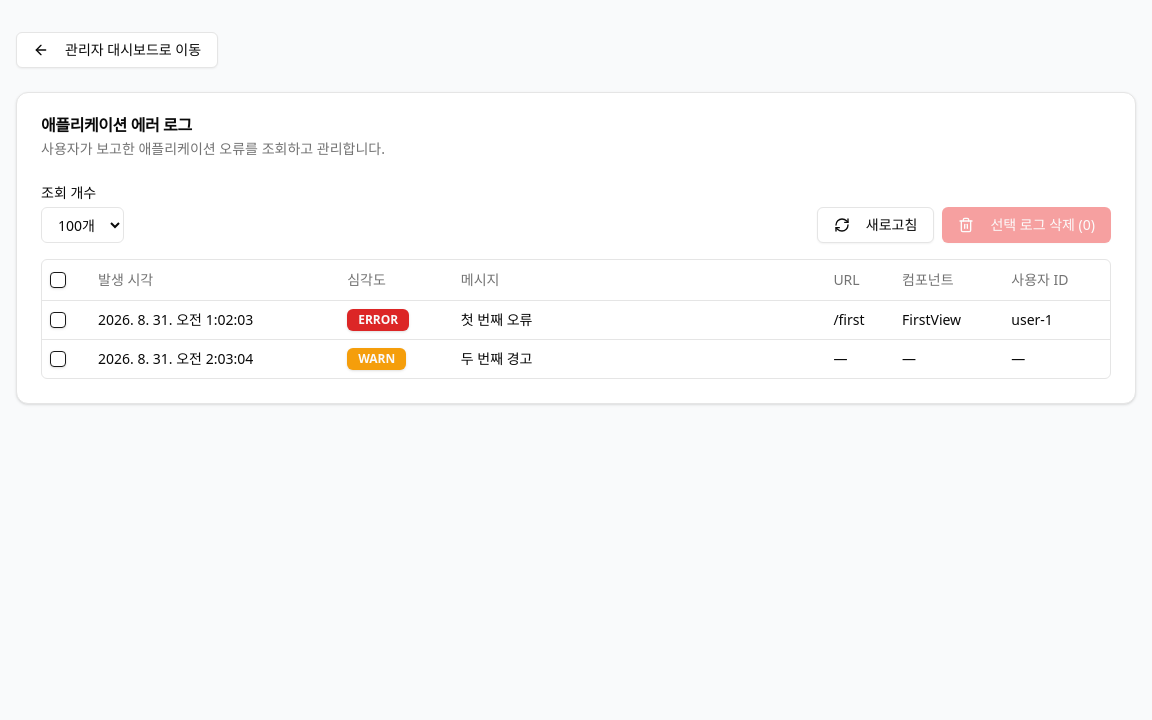
Test: AppLogsHome › prevents repeated confirmation while a deletion request is pending
Expected: the button "첫 번째 오류" is shown, [461,310,817,330]
Click the checkbox named "첫 번째 오류 (error-1) 선택" at {"x": 58, "y": 320}, box [50,312,66,328]
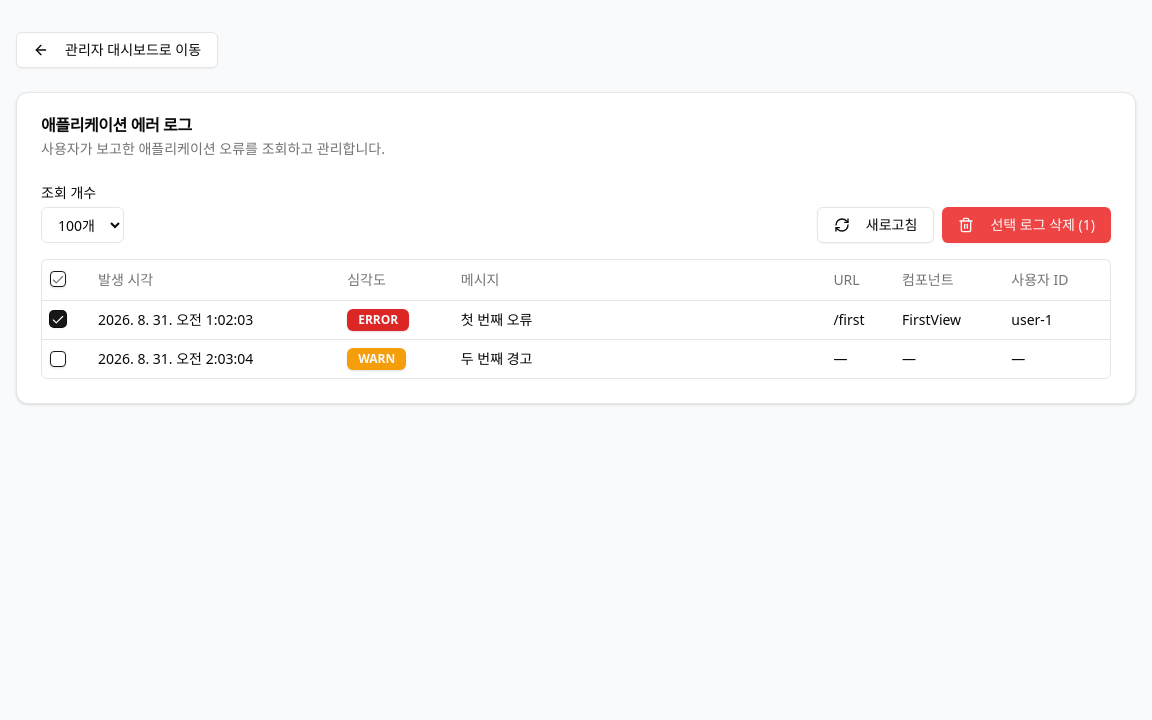
Click the button "선택 로그 삭제 (1)" at {"x": 1027, "y": 225}, box [942,207,1111,243]
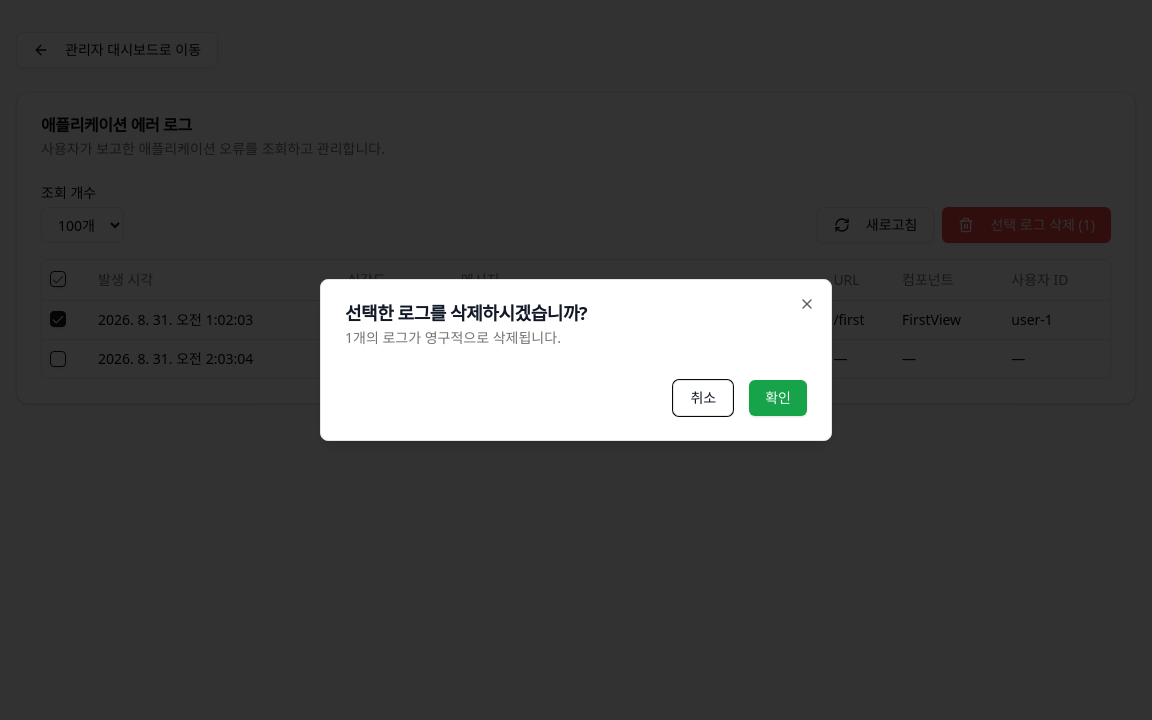
Click the button "확인" at {"x": 778, "y": 398}, box [749,380,807,416]
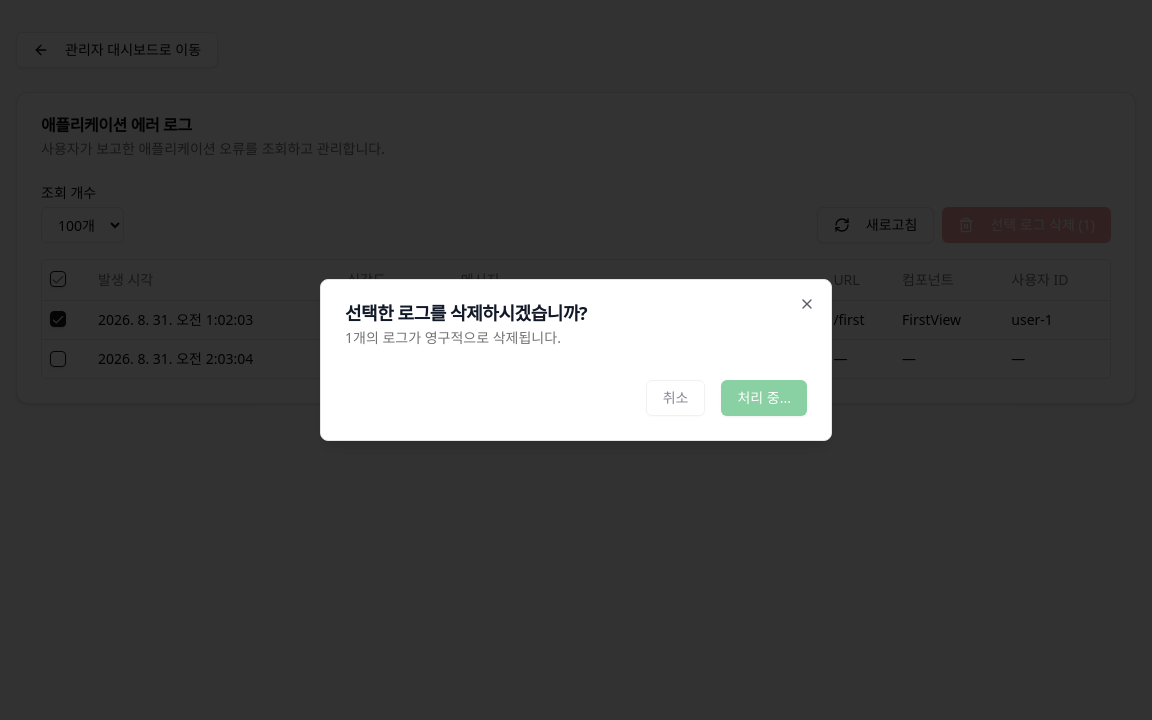
Now the button "처리 중..." is disabled
Click the button "처리 중..." at {"x": 764, "y": 398}, box [722,380,807,416]
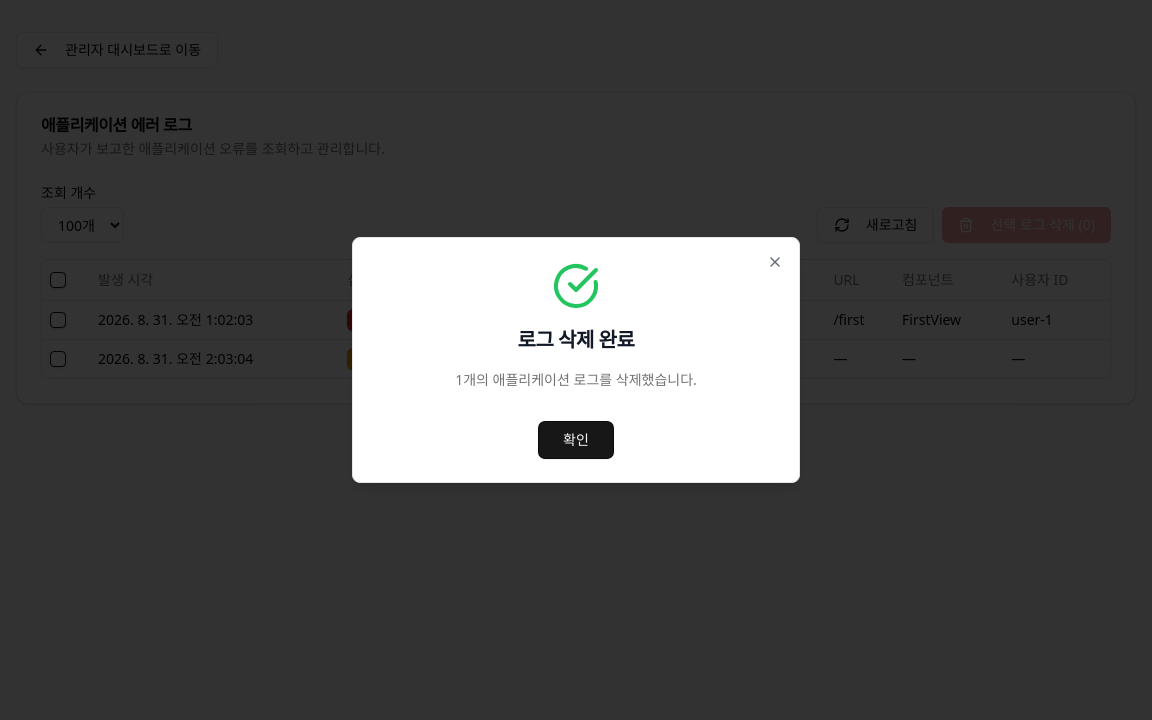
Now the text "1개의 애플리케이션 로그를 삭제했습니다." is shown, box [455,370,697,390]
